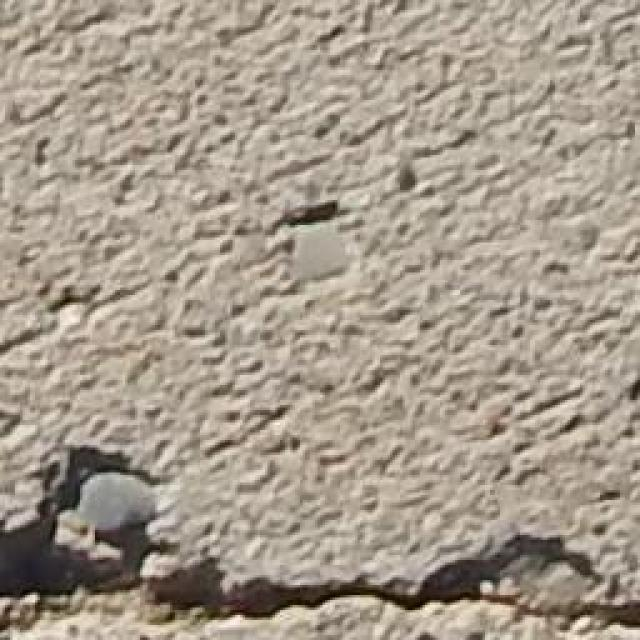concrete-crack: (0, 431, 640, 640)
